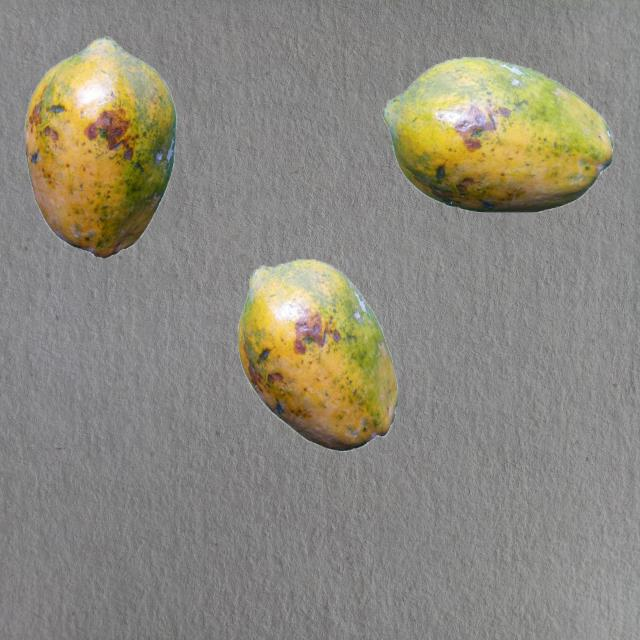Pepaya rippen: (386, 44, 627, 240), (18, 34, 186, 272), (237, 262, 404, 455)
